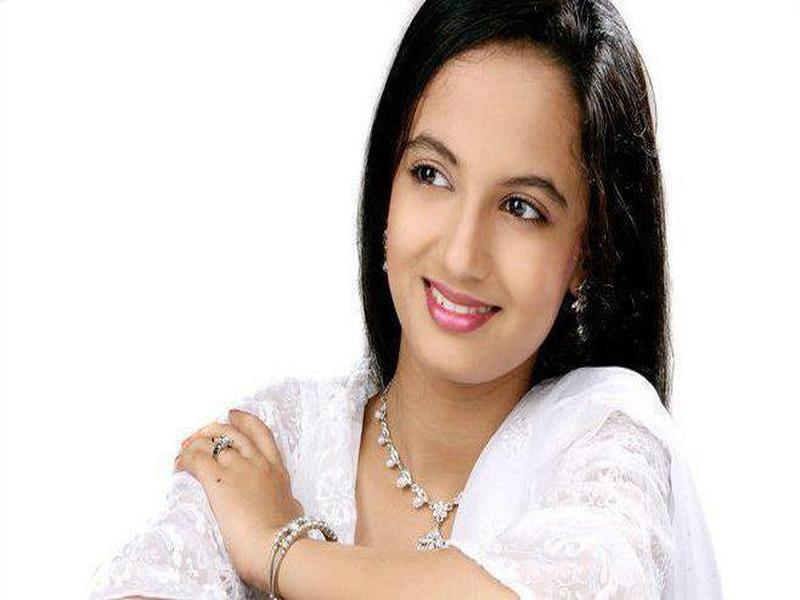without_mask: (389, 89, 578, 384)
